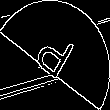P_SW: (30, 23, 80, 87)
